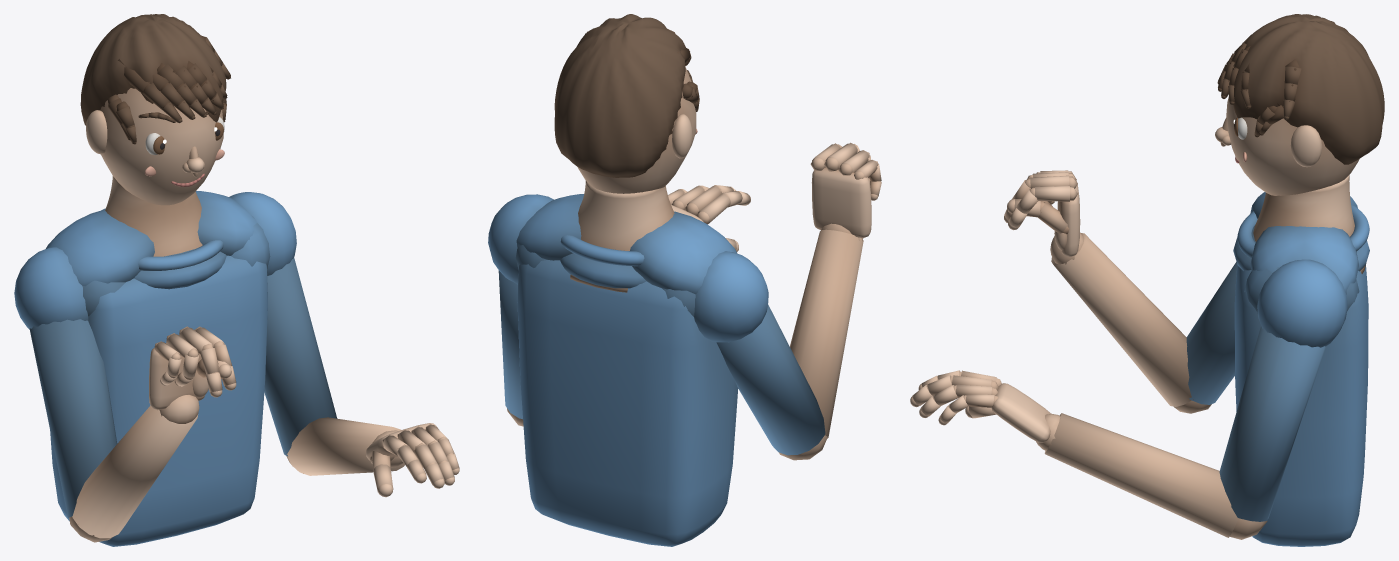
The picture shows the model from 3 angles, left to right: view 1: azimuth 30°, elevation 25°; view 2: azimuth 150°, elevation 25°; view 3: azimuth 270°, elevation 25°; orthographic projection.
Parts seen in each view (by area): view 1: LSC_Body; view 2: LSC_Body; view 3: LSC_Body.
Part boxes in pixels (x1=…): LSC_Body: x1=14, y1=14, x2=459, y2=546; LSC_Body: x1=488, y1=14, x2=881, y2=546; LSC_Body: x1=910, y1=14, x2=1384, y2=546.
Bounding box in the file's own units: 0.4304 × 0.713 × 0.6104.
